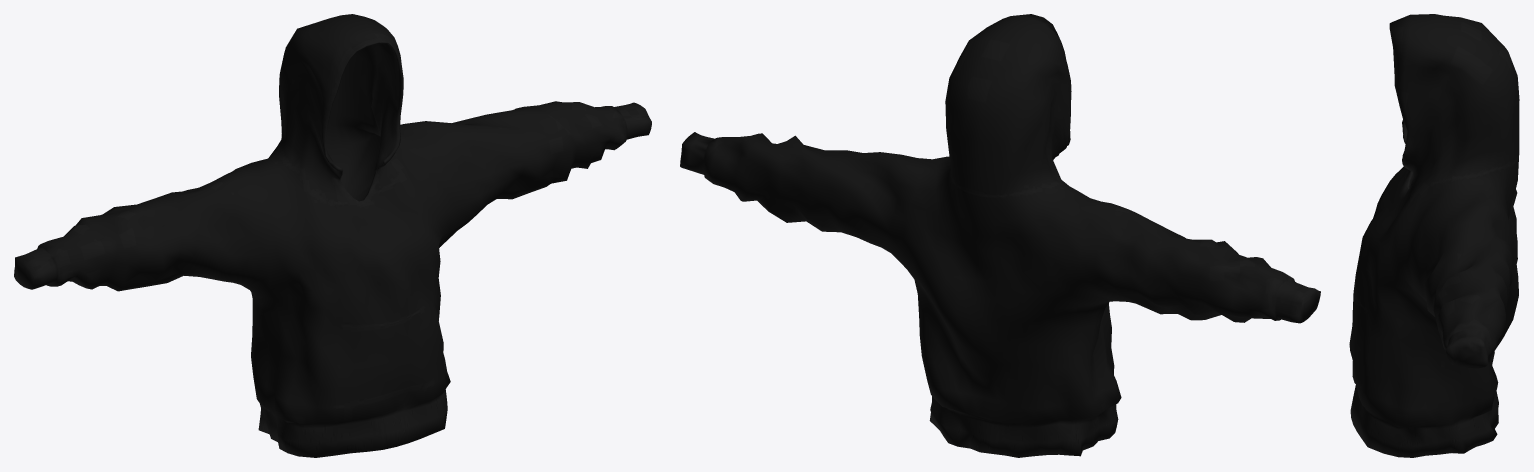
Rendered from jaqueta verde.glb.
The picture shows the model from 3 angles, left to right: view 1: azimuth 30°, elevation 25°; view 2: azimuth 150°, elevation 25°; view 3: azimuth 270°, elevation 25°; orthographic projection.
Visible parts, largest first — view 1: hudiLP_TT_checker_512x512_UV_GRID_0; view 2: hudiLP_TT_checker_512x512_UV_GRID_0; view 3: hudiLP_TT_checker_512x512_UV_GRID_0.
Part boxes in pixels (x1,y1,x2,y2): hudiLP_TT_checker_512x512_UV_GRID_0: (14,14,651,457); hudiLP_TT_checker_512x512_UV_GRID_0: (680,14,1320,457); hudiLP_TT_checker_512x512_UV_GRID_0: (1349,14,1519,457).
Bounding box in the file's own units: 20.2 × 12.58 × 4.82.
1 material, 1 textured.
